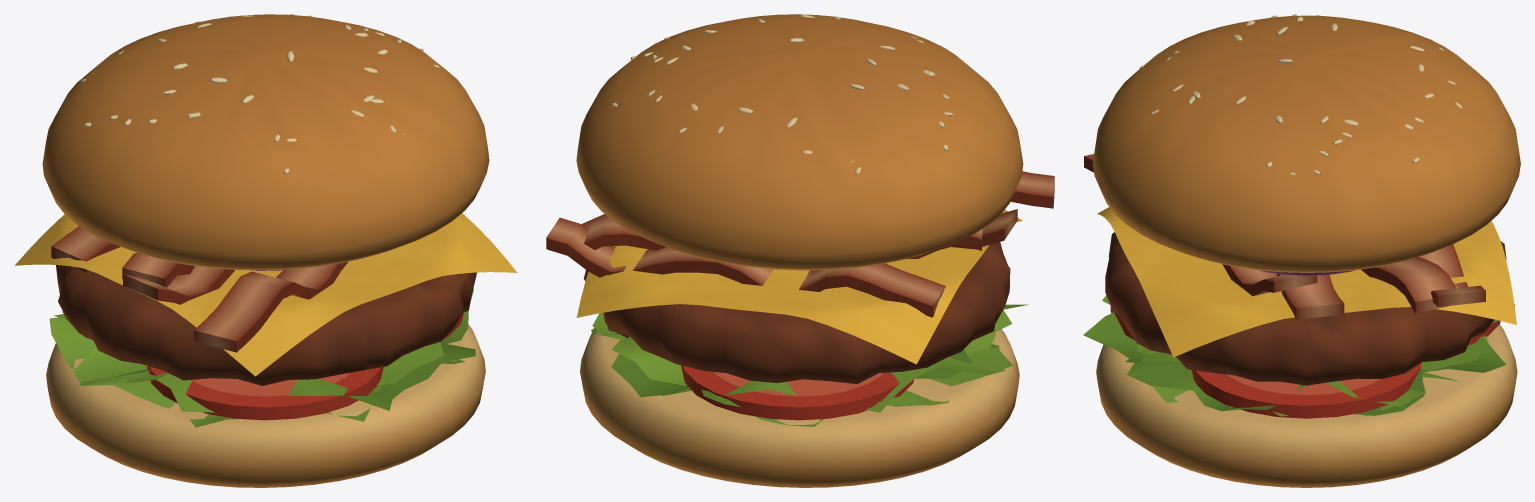
Rendered from xverde.glb.
The picture shows the model from 3 angles, left to right: view 1: azimuth 30°, elevation 25°; view 2: azimuth 150°, elevation 25°; view 3: azimuth 270°, elevation 25°; orthographic projection.
Visible parts, largest first — view 1: xverde; view 2: xverde; view 3: xverde.
Boxes of the visible parts, bbox=[...] form: xverde: bbox=[14, 14, 517, 487]; xverde: bbox=[546, 14, 1054, 487]; xverde: bbox=[1083, 14, 1520, 487].
Size of the model in its own units: 0.1275 by 0.1118 by 0.1237.
